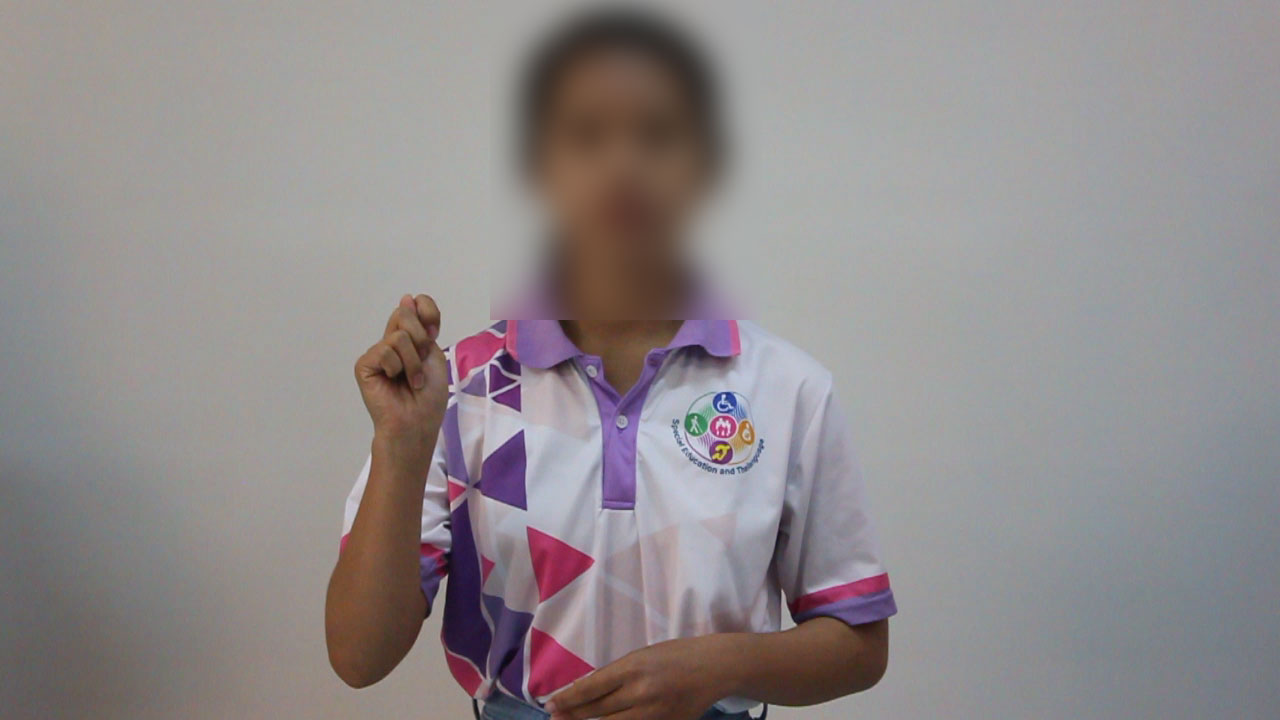tor: (338, 275, 473, 456)
